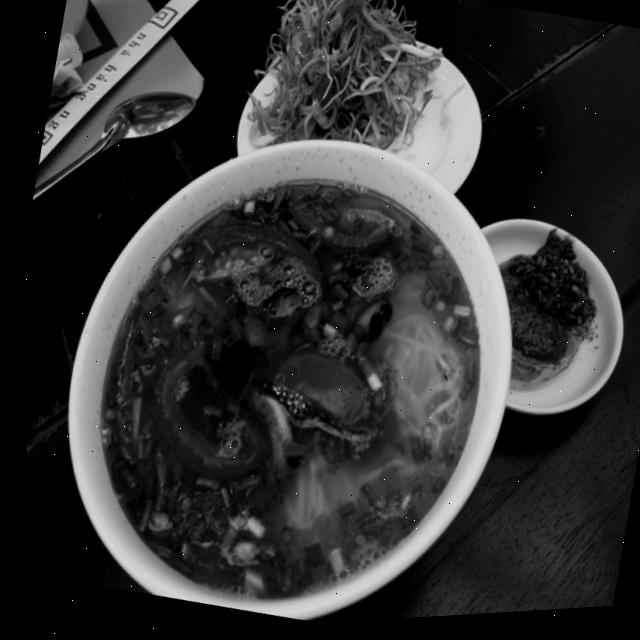面条主食: (5, 79, 580, 640)
